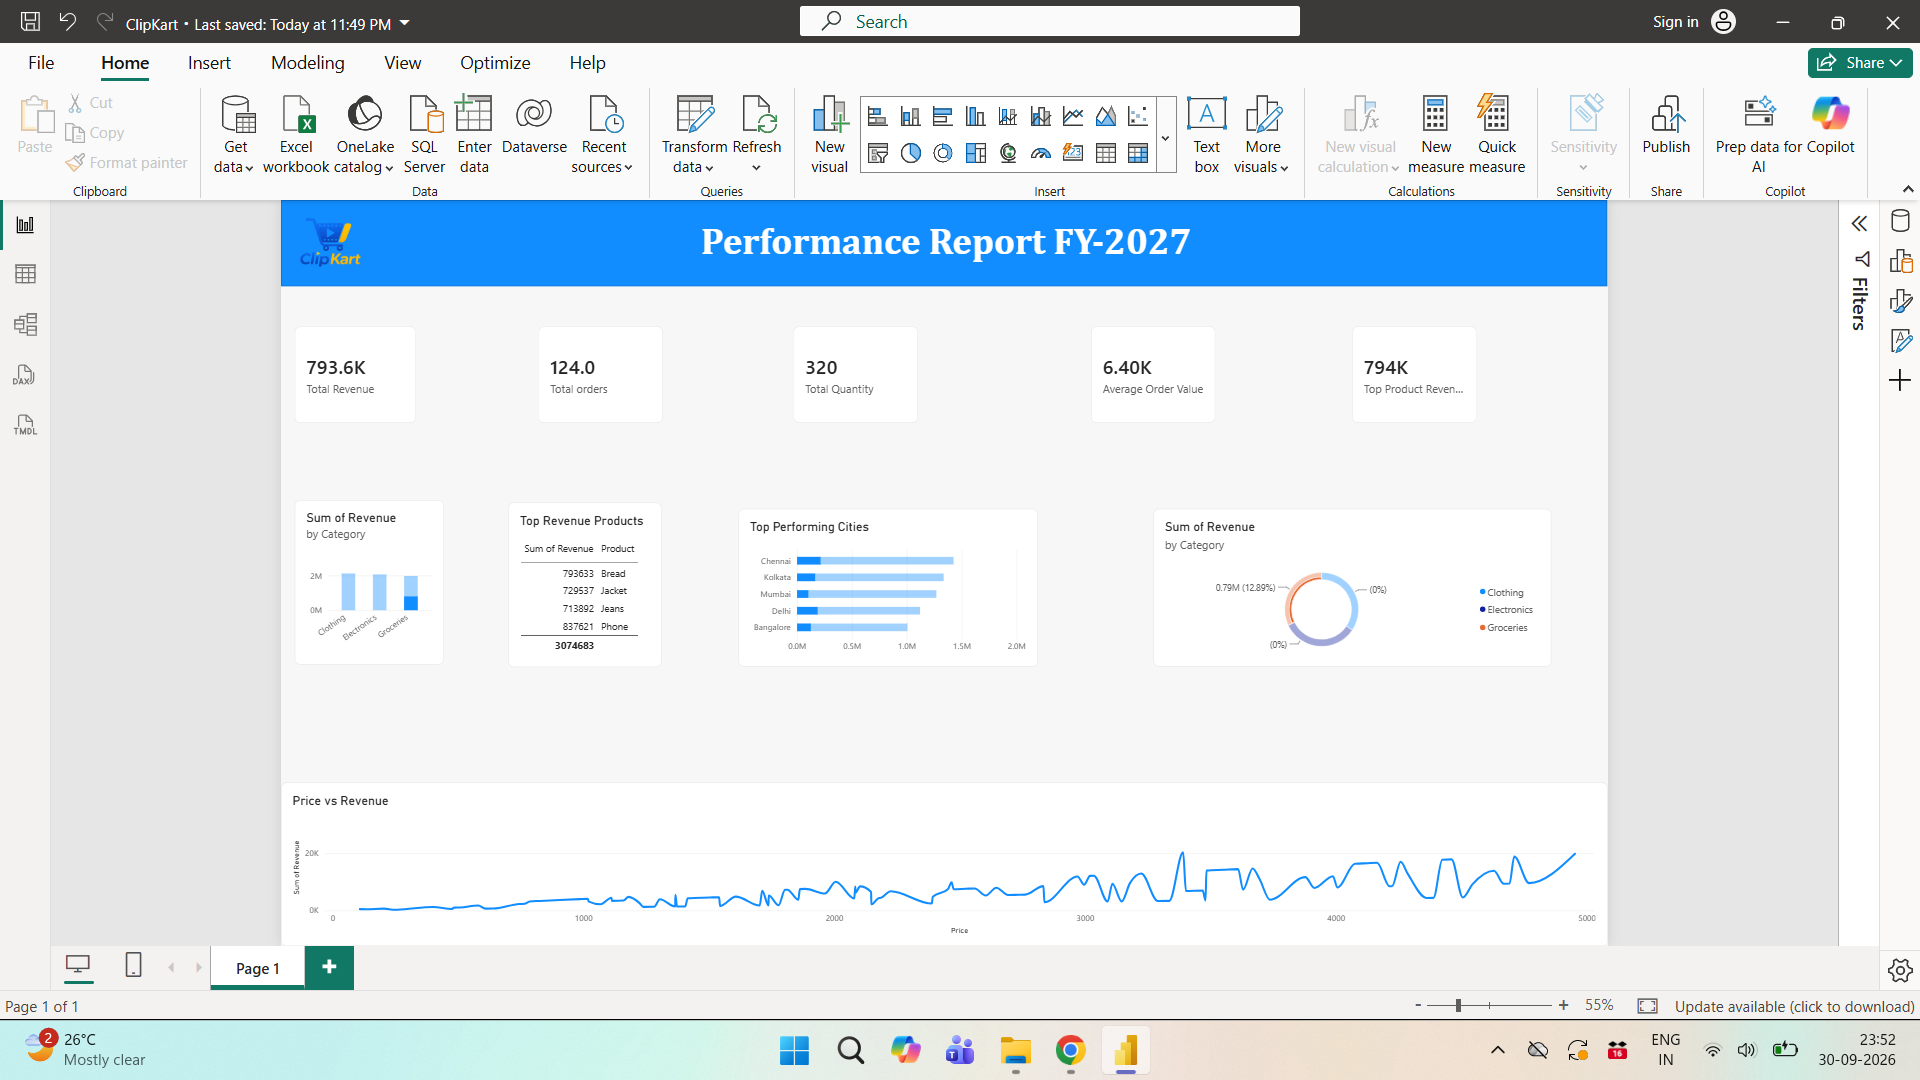

What the dashboard file says about the page in this screenshot:
{"tool":"powerbi","page":{"name":"Page 1","canvas":[1920,1080],"ordinal":0},"visuals":[{"type":"shape","box":[0,0,1920,125],"z":0},{"type":"image","box":[0,1.7,141.7,123.3],"z":1000},{"type":"textbox","box":[607.5,27.5,807.5,77.5],"z":2000},{"type":"cardVisual","fields":{"Data":["Sum(1780981841717-clipkart_ecommerce_data.Revenue)"]},"box":[20,182.5,175,140],"z":3000},{"type":"lineChart","title":"Price vs Revenue","fields":{"Category":["1780981841717-clipkart_ecommerce_data.Price"],"Y":["Sum(1780981841717-clipkart_ecommerce_data.Revenue)"]},"box":[0,842.5,1920.6,236.8],"z":4000},{"type":"columnChart","fields":{"Category":["1780981841717-clipkart_ecommerce_data.Category"],"Y":["Sum(1780981841717-clipkart_ecommerce_data.Revenue)"]},"box":[20,435,216.2,238.8],"z":5000},{"type":"tableEx","title":"Top Revenue Products","fields":{"Values":["Sum(1780981841717-clipkart_ecommerce_data.Revenue)","1780981841717-clipkart_ecommerce_data.Product"]},"box":[330,437.5,221.4,238.6],"z":6000},{"type":"cardVisual","fields":{"Data":["CountNonNull(1780981841717-clipkart_ecommerce_data.Revenue)"]},"box":[372.5,182.5,180,140],"z":7000},{"type":"cardVisual","fields":{"Data":["Sum(1780981841717-clipkart_ecommerce_data.Quantity)"]},"box":[742.5,182.5,180,140],"z":8000},{"type":"clusteredBarChart","title":"Top Performing Cities","fields":{"Category":["1780981841717-clipkart_ecommerce_data.City"],"Y":["Sum(1780981841717-clipkart_ecommerce_data.Revenue)"]},"box":[662.5,447.5,433.8,228.8],"z":9000},{"type":"cardVisual","fields":{"Data":["1780981841717-clipkart_ecommerce_data.Average Order Value"]},"box":[1172.5,182.5,180,140],"z":9001},{"type":"donutChart","fields":{"Category":["1780981841717-clipkart_ecommerce_data.Category"],"Y":["Sum(1780981841717-clipkart_ecommerce_data.Revenue)"]},"box":[1262.5,447.5,576.2,228.8],"z":9002},{"type":"cardVisual","fields":{"Data":["1780981841717-clipkart_ecommerce_data.Top Product Revenue"]},"box":[1550,182.5,180,140],"z":9003}]}

Visuals, with their boxes on the page's 1920x1080 design canvas (x1, y1, x2, y2). These are canvas units, not pixel positions in the 1920x1080 screenshot, which may show the page scaled, cropped or inside an application window:
shape: 0 0 1920 125
image: 0 2 142 125
textbox: 608 28 1415 105
cardVisual - Sum(1780981841717-clipkart_ecommerce_data.Revenue): 20 182 195 322
"Price vs Revenue" lineChart: 0 842 1921 1079
columnChart - 1780981841717-clipkart_ecommerce_data.Category x Sum(1780981841717-clipkart_ecommerce_data.Revenue): 20 435 236 674
"Top Revenue Products" tableEx: 330 438 551 676
cardVisual - CountNonNull(1780981841717-clipkart_ecommerce_data.Revenue): 372 182 552 322
cardVisual - Sum(1780981841717-clipkart_ecommerce_data.Quantity): 742 182 922 322
"Top Performing Cities" clusteredBarChart: 662 448 1096 676
cardVisual - 1780981841717-clipkart_ecommerce_data.Average Order Value: 1172 182 1352 322
donutChart - 1780981841717-clipkart_ecommerce_data.Category x Sum(1780981841717-clipkart_ecommerce_data.Revenue): 1262 448 1839 676
cardVisual - 1780981841717-clipkart_ecommerce_data.Top Product Revenue: 1550 182 1730 322
